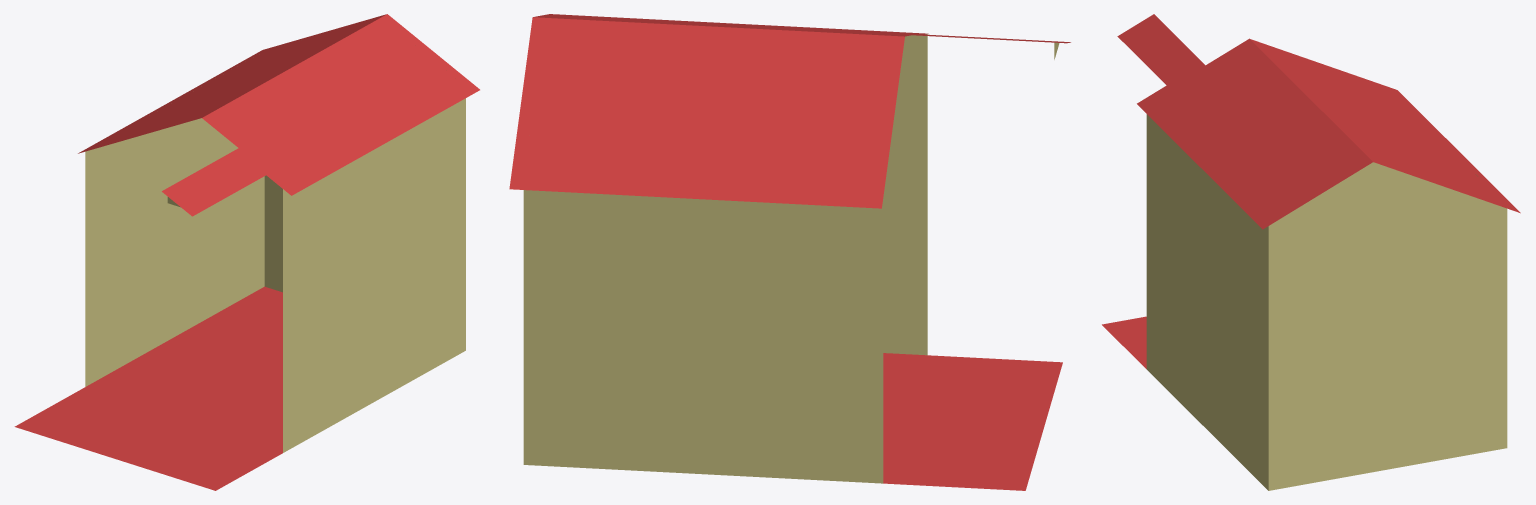
3 views of the same model, side by side, from view 1: azimuth 30°, elevation 25°; view 2: azimuth 150°, elevation 25°; view 3: azimuth 270°, elevation 25° (orthographic). The views are drawn at different scales.
Bounding box in the file's own units: 11.78 × 9.72 × 8.04.
